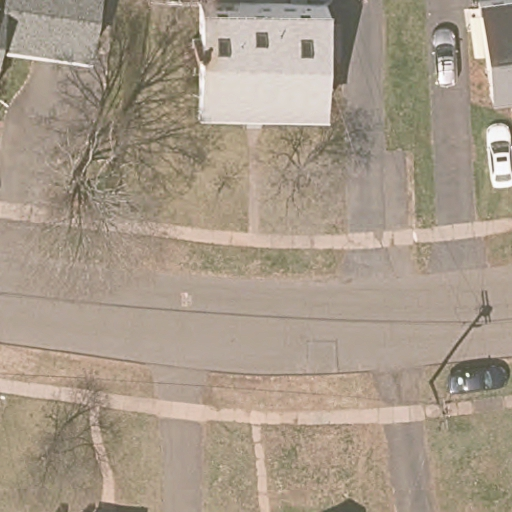DT: (427, 379, 460, 435)
